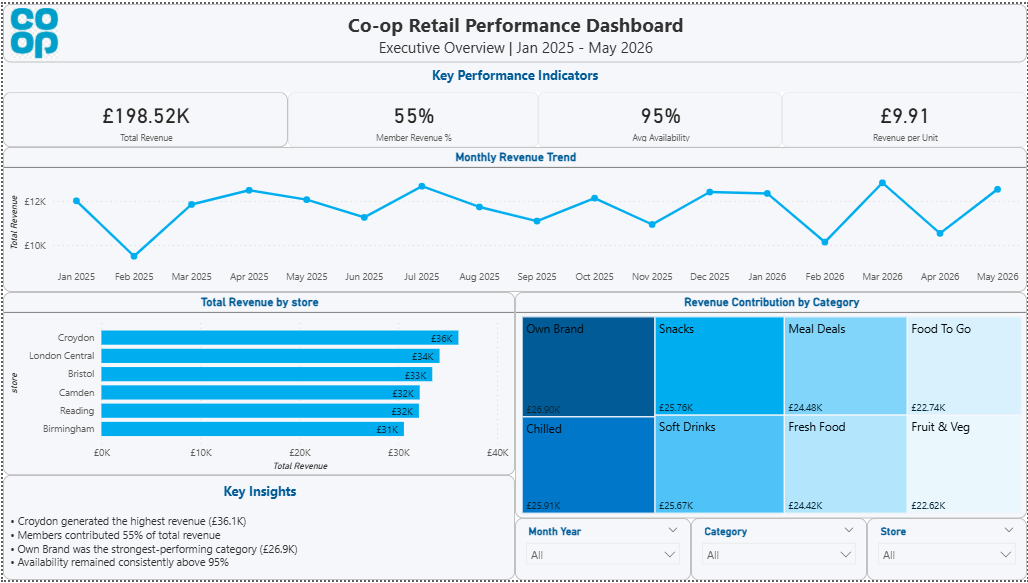

What the dashboard file says about the page in this screenshot:
{"tool":"powerbi","page":{"name":"Overview","canvas":[1280,720],"ordinal":0},"visuals":[{"type":"card","fields":{"Values":["coop_retail_cleaned_dataset.Total Revenue"]},"box":[0,110,356.2,68.8],"z":0},{"type":"card","fields":{"Values":["coop_retail_cleaned_dataset.Avg Availability"]},"box":[668.8,110,305,68.8],"z":1000},{"type":"clusteredBarChart","fields":{"Category":["coop_retail_cleaned_dataset.store"],"Y":["coop_retail_cleaned_dataset.Total Revenue"]},"box":[0,360,640,228.8],"z":2000},{"type":"treemap","title":"Revenue Contribution by Category","fields":{"Group":["coop_retail_cleaned_dataset.category"],"Values":["coop_retail_cleaned_dataset.Total Revenue"]},"box":[640,360,640,282.5],"z":3000},{"type":"slicer","fields":{"Values":["coop_retail_cleaned_dataset.store"]},"box":[1080,642.5,200,77.5],"z":4000},{"type":"slicer","fields":{"Values":["coop_retail_cleaned_dataset.category"]},"box":[860,642.5,220,77.5],"z":5000},{"type":"textbox","box":[0,588.8,640,131.2],"z":6000},{"type":"slicer","fields":{"Values":["coop_retail_cleaned_dataset.Month Year"]},"box":[640,642.5,220,77.5],"z":7000},{"type":"lineChart","title":"Monthly Revenue Trend","fields":{"Category":["coop_retail_cleaned_dataset.Month Year"],"Y":["coop_retail_cleaned_dataset.Total Revenue"]},"box":[0,178.8,1280,181.2],"z":8000},{"type":"textbox","box":[0,0,1280,72.5],"z":9000,"group":"g1"},{"type":"card","fields":{"Values":["coop_retail_cleaned_dataset.Member Revenue %"]},"box":[356.2,110,312.5,68.8],"z":10000},{"type":"card","fields":{"Values":["coop_retail_cleaned_dataset.Revenue per Unit"]},"box":[973.8,110,306.2,68.8],"z":11000},{"type":"textbox","box":[0,72.5,1280,37.5],"z":12000},{"type":"image","box":[0,0,78.8,72.5],"z":12501,"group":"g1"},{"type":"group","id":"g1","title":"Group 1","box":[0,0,1280,72.5],"z":12502}]}

Visuals, with their boxes in screenshot pixels (x1, y1, x2, y2), scaled from the page's 1280x720 canvas onto the 1028x583 screenshot:
card - coop_retail_cleaned_dataset.Total Revenue: bbox=(0, 89, 286, 145)
card - coop_retail_cleaned_dataset.Avg Availability: bbox=(537, 89, 782, 145)
clusteredBarChart - coop_retail_cleaned_dataset.store x coop_retail_cleaned_dataset.Total Revenue: bbox=(0, 292, 514, 477)
"Revenue Contribution by Category" treemap: bbox=(514, 292, 1027, 520)
slicer - coop_retail_cleaned_dataset.store: bbox=(867, 520, 1027, 582)
slicer - coop_retail_cleaned_dataset.category: bbox=(691, 520, 867, 582)
textbox: bbox=(0, 477, 514, 582)
slicer - coop_retail_cleaned_dataset.Month Year: bbox=(514, 520, 691, 582)
"Monthly Revenue Trend" lineChart: bbox=(0, 145, 1027, 292)
textbox: bbox=(0, 0, 1027, 59)
card - coop_retail_cleaned_dataset.Member Revenue %: bbox=(286, 89, 537, 145)
card - coop_retail_cleaned_dataset.Revenue per Unit: bbox=(782, 89, 1027, 145)
textbox: bbox=(0, 59, 1027, 89)
image: bbox=(0, 0, 63, 59)
"Group 1" group: bbox=(0, 0, 1027, 59)
